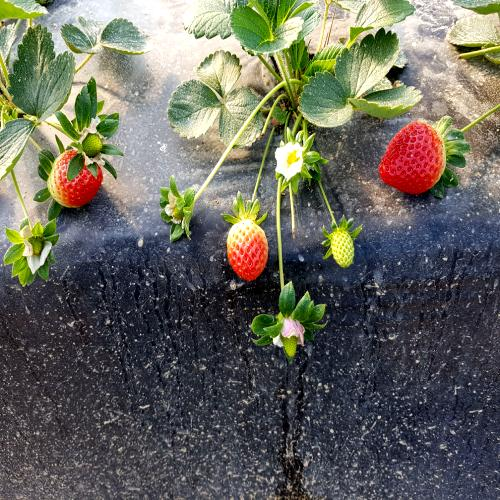partially-ripe: (41, 150, 108, 212), (224, 215, 274, 292)
ripe: (375, 117, 453, 212)
